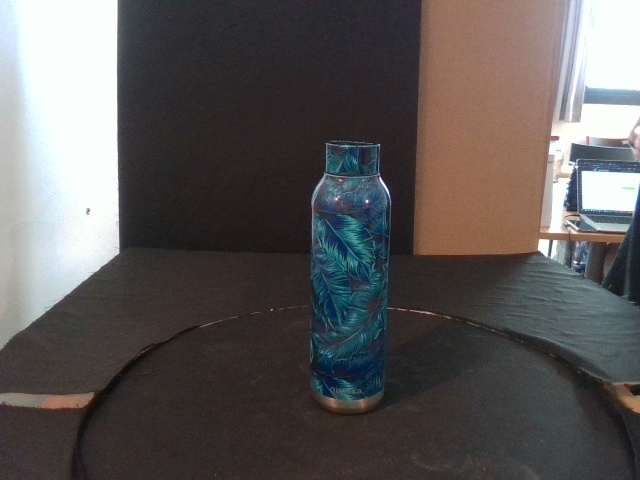bottle: (311, 138, 393, 415)
